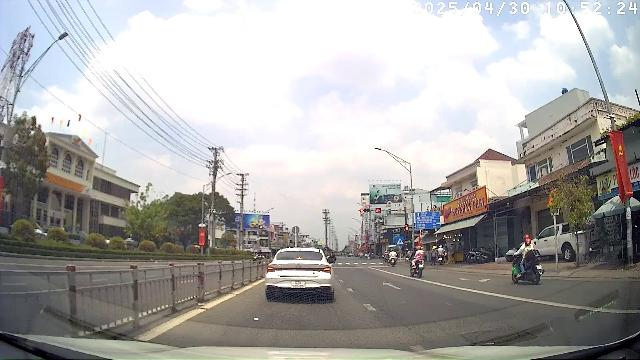423a-duong-nguoi-di-bo-sang-ngang-1: (396, 237, 404, 245)
